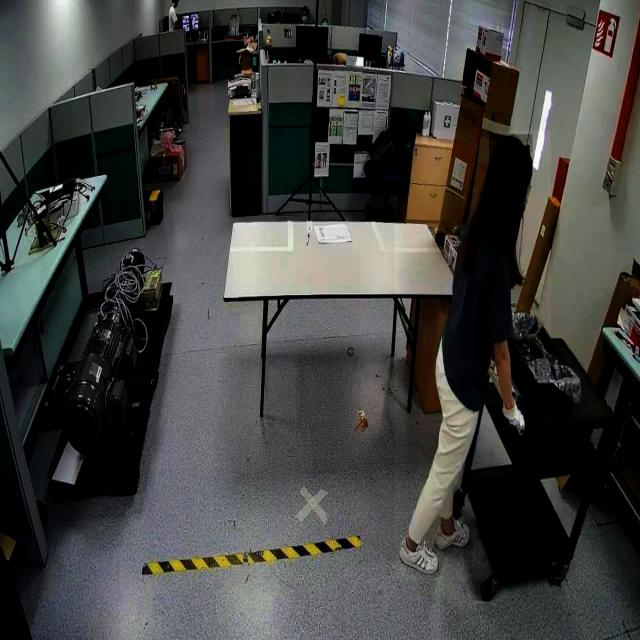hand_glove: (496, 393, 530, 436)
head_nohelmet: (488, 134, 532, 170)
person: (394, 131, 550, 581)
shoes: (400, 533, 440, 584), (432, 518, 472, 552)
